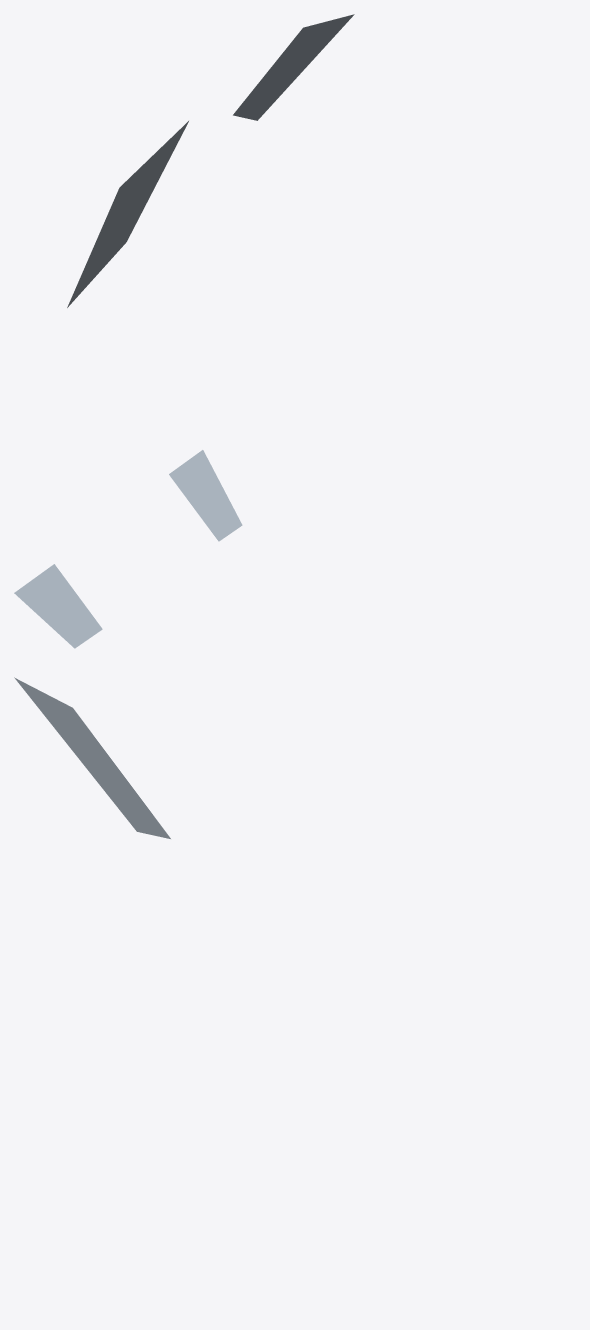
File: metatarsal-interosseous-ligaments-l.glb
3 renders of one model, top to bottom at view 1: azimuth 30°, elevation 25°; view 2: azimuth 150°, elevation 25°; view 3: azimuth 270°, elevation 25°, orthographic. The views are drawn at different scales.
Parts seen in each view (by area): view 1: Metatarsal interosseous ligaments.l; view 2: Metatarsal interosseous ligaments.l; view 3: Metatarsal interosseous ligaments.l.
Boxes of the visible parts, left/top/right/bottom form: Metatarsal interosseous ligaments.l: left=67, top=14, right=354, bottom=307; Metatarsal interosseous ligaments.l: left=14, top=450, right=242, bottom=648; Metatarsal interosseous ligaments.l: left=14, top=677, right=170, bottom=838.
Bounding box in the file's own units: 0.0297 × 0.0192 × 0.0242.
